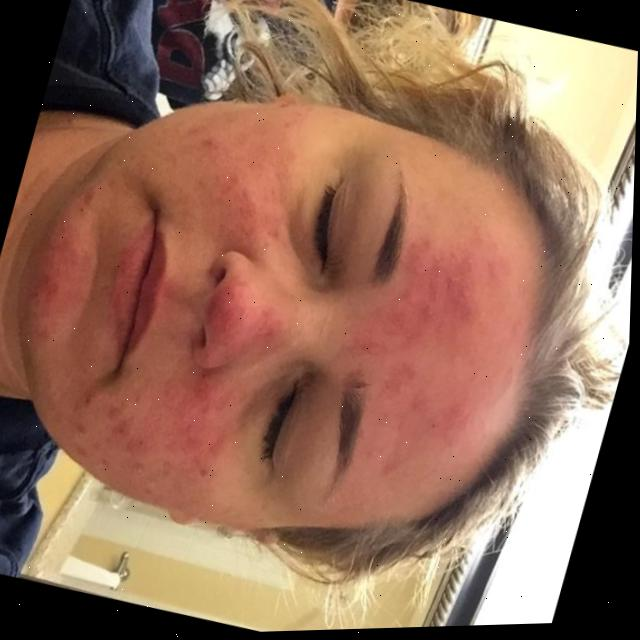Rosacea: (318, 225, 527, 501), (53, 357, 240, 511), (177, 130, 281, 240), (14, 210, 92, 340), (204, 278, 296, 351)
